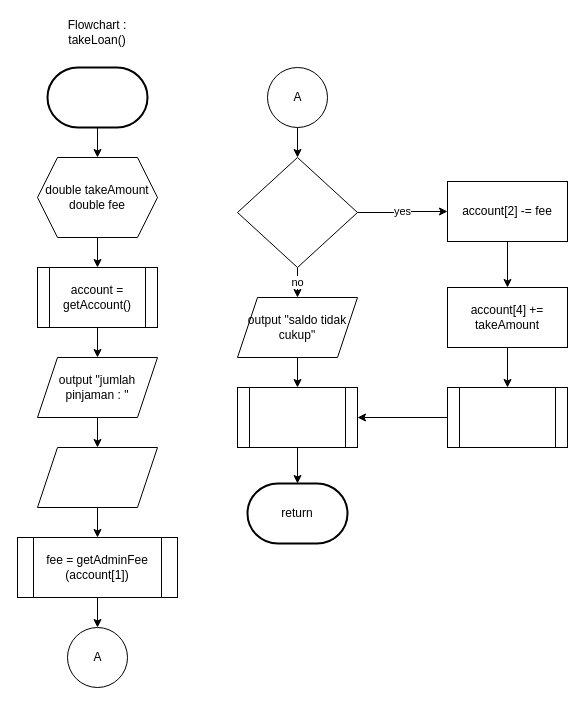
This 585x705 diagram has some shape labels left out. The centre of each missing label's shape, as x and y in pixels:
"account[2] >= fee" goes at pixel 297 212.
"addHistory (account[0],msg)" goes at pixel 507 417.
"input takeAmount" goes at pixel 97 477.
"loanMenu()" goes at pixel 297 417.
"takeLoan()" goes at pixel 97 97.
